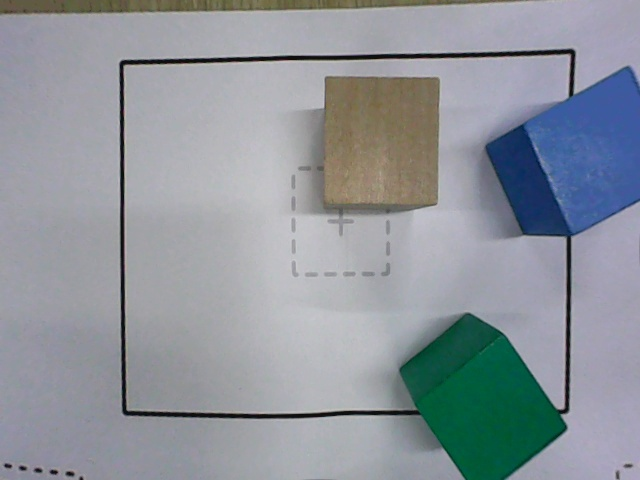upside of big cube: (416, 333, 566, 479), (523, 67, 639, 238), (324, 77, 440, 205)
